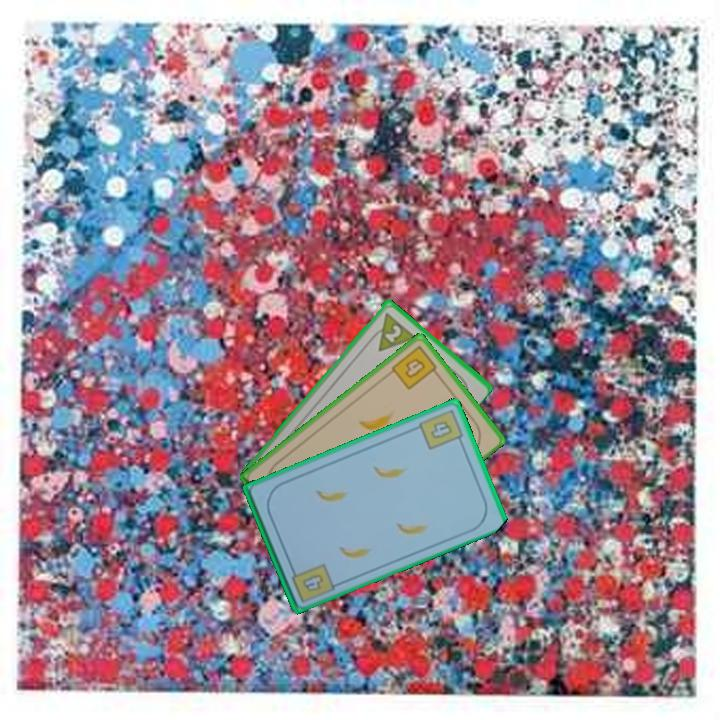2p: (381, 320, 404, 345)
4b: (388, 342, 442, 392), (415, 405, 466, 452), (299, 570, 327, 594)
